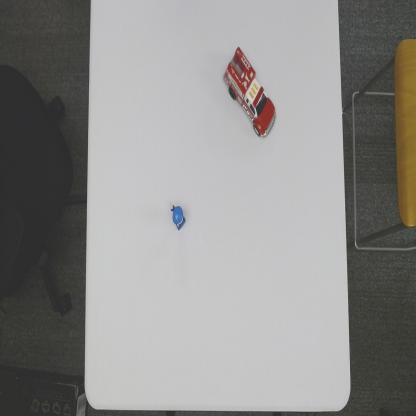Firetruck: (222, 43, 277, 141)
